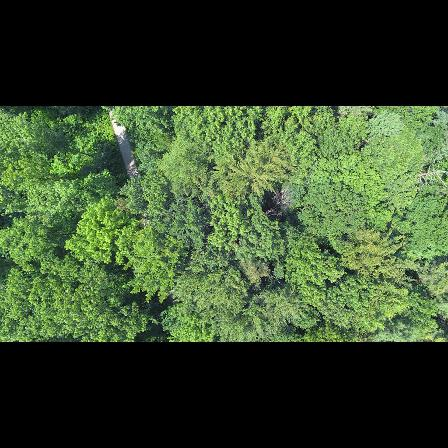Dead: (265, 189, 293, 227)
